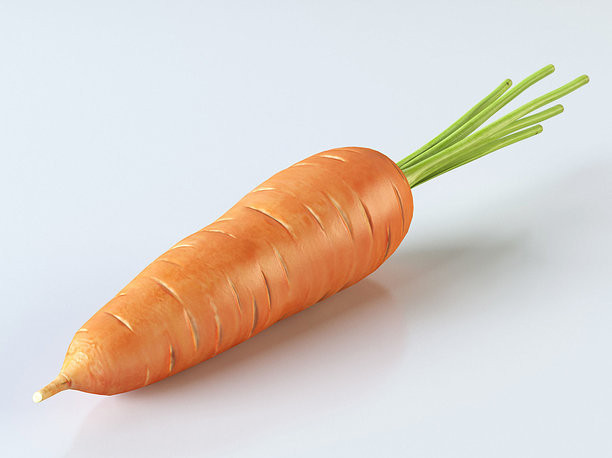carrot: (25, 58, 595, 408)
